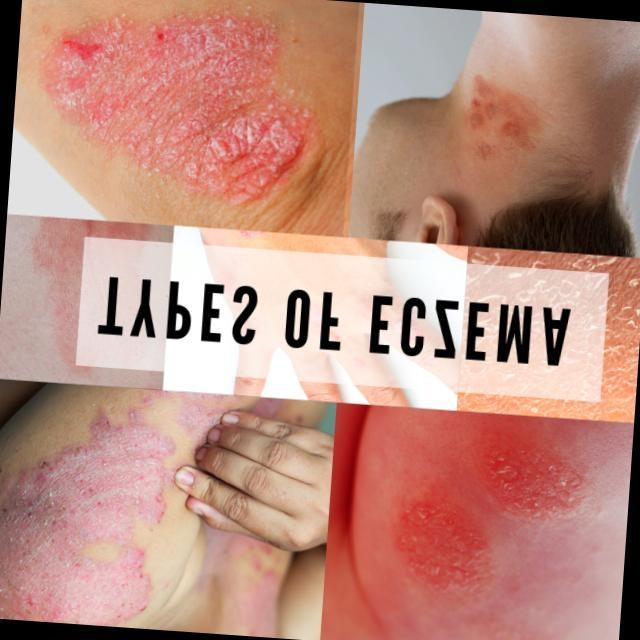Eczema: (37, 2, 308, 194), (0, 406, 172, 627), (476, 428, 594, 530), (399, 498, 498, 598), (462, 76, 544, 164)
